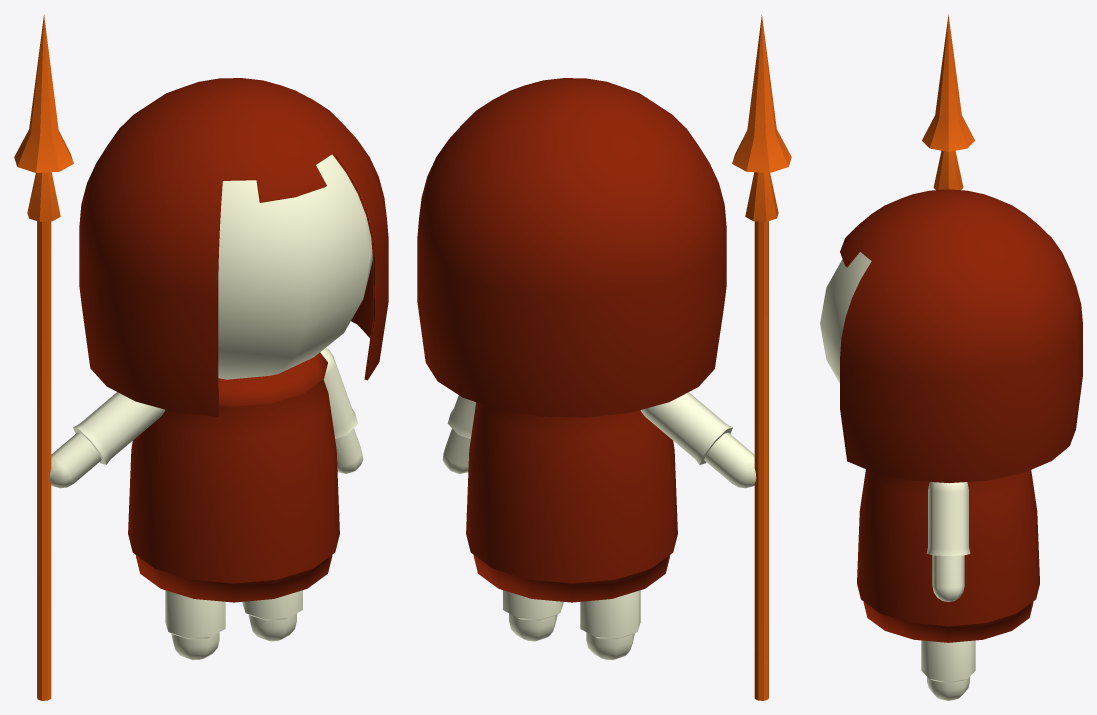
The model's file is RedSoldier.fbx.
3 renders of one model, left to right at view 1: azimuth 30°, elevation 25°; view 2: azimuth 150°, elevation 25°; view 3: azimuth 270°, elevation 25°, orthographic. The views are drawn at different scales.
Parts seen in each view (by area): view 1: NormalSoldier; view 2: NormalSoldier; view 3: NormalSoldier.
Boxes of the visible parts, x1,y1,x2,y2 form: NormalSoldier: (14, 15, 388, 700); NormalSoldier: (417, 15, 791, 700); NormalSoldier: (820, 14, 1082, 700).
Bounding box in the file's own units: 54.61 × 102 × 40.92.
